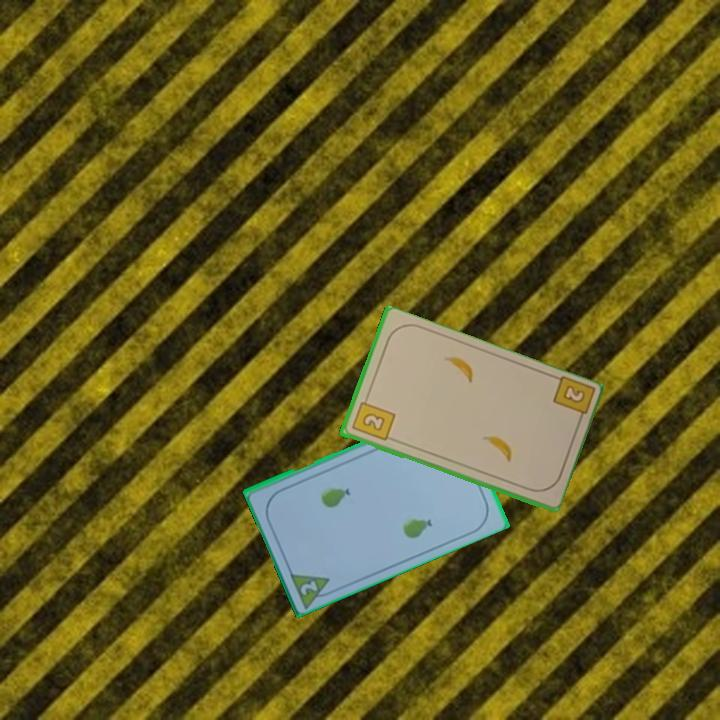2b: (348, 393, 397, 444), (549, 373, 595, 427)
2p: (296, 576, 321, 598)
